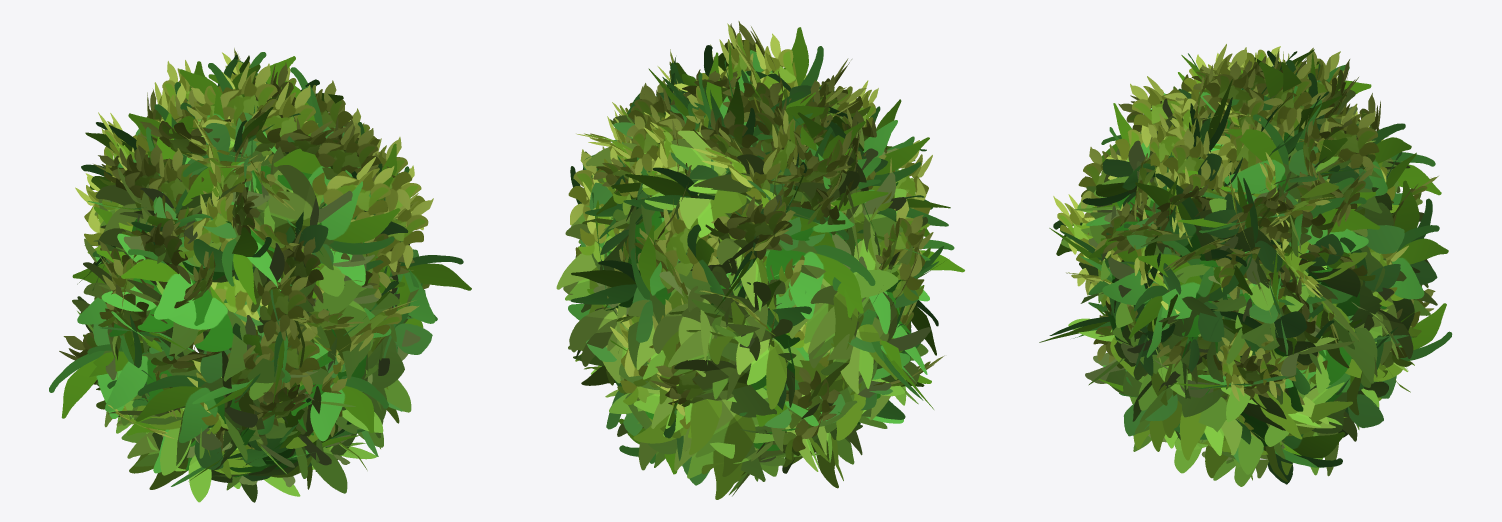
The model's file is bush2.fbx.
The picture shows the model from 3 angles, left to right: view 1: azimuth 30°, elevation 25°; view 2: azimuth 150°, elevation 25°; view 3: azimuth 270°, elevation 25°; orthographic projection. The views are drawn at different scales.
Parts seen in each view (by area): view 1: transp.003; view 2: transp.003; view 3: transp.003.
Boxes of the visible parts, <box> form: transp.003: <box>49,48,471,502</box>; transp.003: <box>556,21,964,499</box>; transp.003: <box>1039,44,1452,486</box>.
Bounding box in the file's own units: 337 × 373 × 350.
